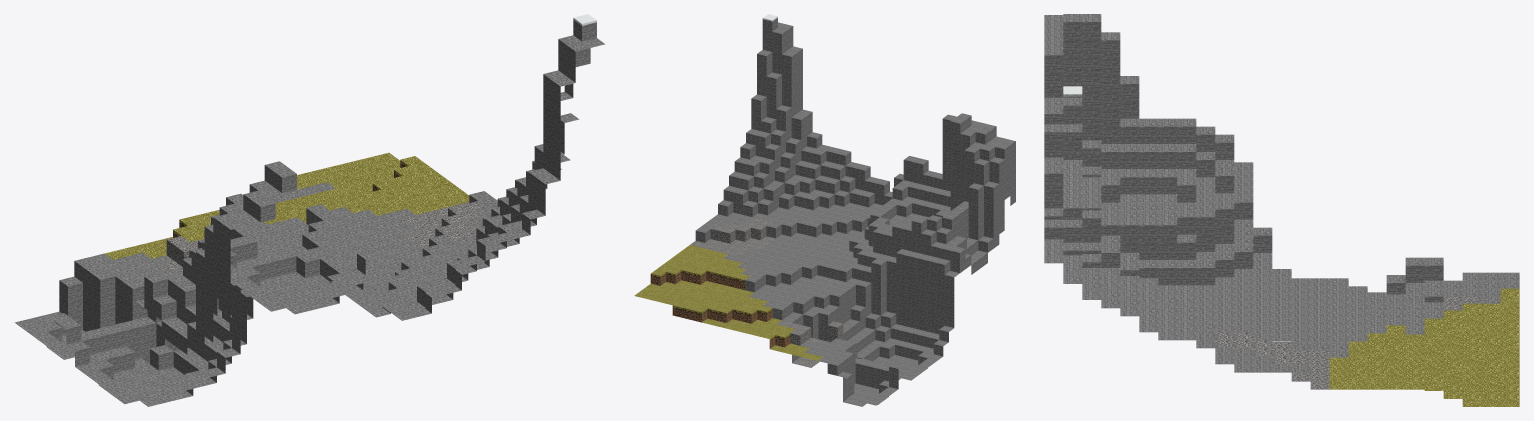
The model's file is chunk300--100-lvl-1-transformed.glb.
3 renders of one model, left to right at view 1: azimuth 30°, elevation 25°; view 2: azimuth 150°, elevation 25°; view 3: azimuth 270°, elevation 25°, orthographic. The views are drawn at different scales.
Parts seen in each view (by area): view 1: Stone, Grass_Block, Gravel; view 2: Stone, Grass_Block, Gravel; view 3: Stone, Grass_Block, Gravel.
Part boxes in pixels (left/top/right/bottom): Stone: left=14, top=20, right=604, bottom=406; Grass_Block: left=104, top=152, right=469, bottom=259; Gravel: left=160, top=201, right=486, bottom=308; Stone: left=695, top=18, right=1015, bottom=406; Grass_Block: left=634, top=245, right=822, bottom=360; Gravel: left=690, top=217, right=843, bottom=367; Stone: left=1044, top=14, right=1519, bottom=372; Grass_Block: left=1329, top=288, right=1519, bottom=406; Gravel: left=1215, top=295, right=1481, bottom=389.
Bounding box in the file's own units: 25 × 25.13 × 25.
5 materials, 5 textured.
